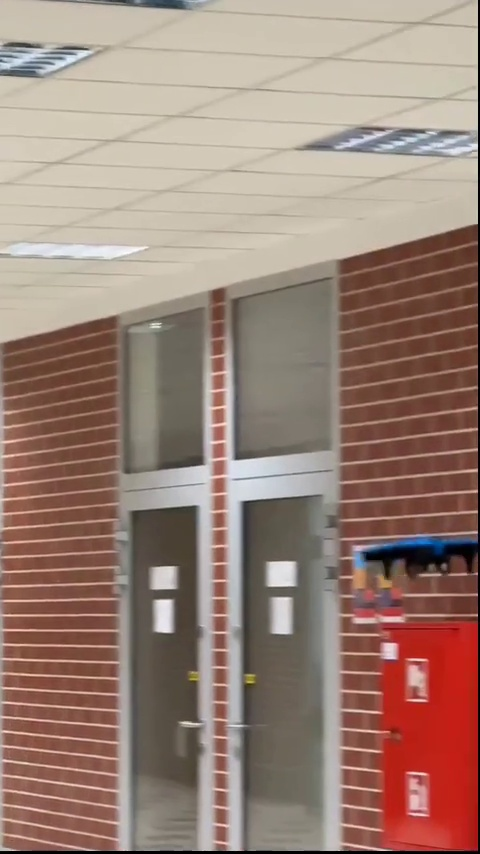drone: (362, 537, 480, 574)
